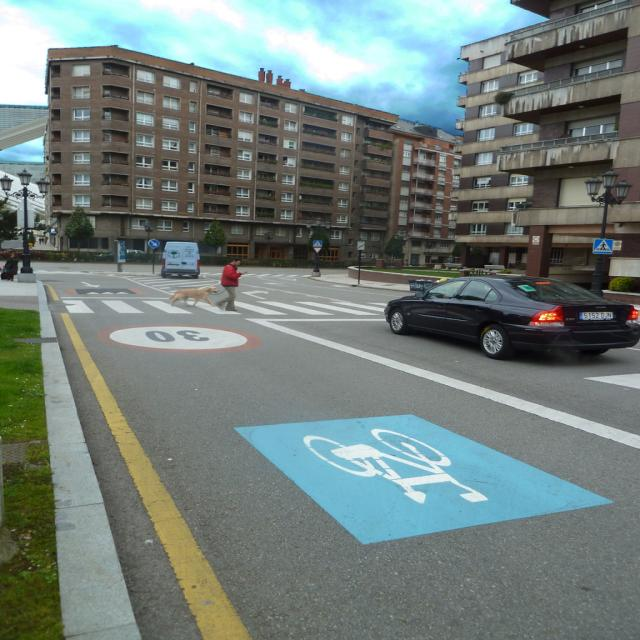car: (374, 263, 635, 362)
